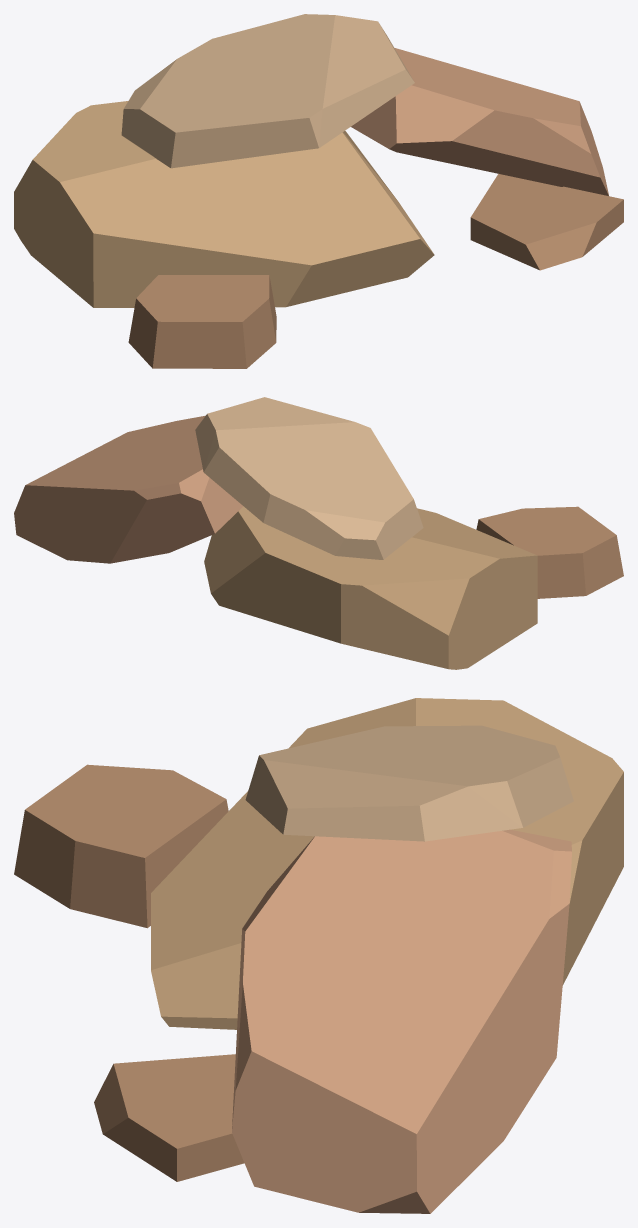
The model's file is Rocks_Flat_m_03.fbx.
The picture shows the model from 3 angles, top to bottom: view 1: azimuth 30°, elevation 25°; view 2: azimuth 150°, elevation 25°; view 3: azimuth 270°, elevation 25°; orthographic projection. The views are drawn at different scales.
Visible parts, largest first — view 1: Rocks_Flat_m_03; view 2: Rocks_Flat_m_03; view 3: Rocks_Flat_m_03.
Part boxes in pixels (x1,y1,x2,y2): Rocks_Flat_m_03: (14, 14, 623, 368); Rocks_Flat_m_03: (14, 397, 623, 669); Rocks_Flat_m_03: (14, 698, 623, 1213).
Bounding box in the file's own units: 230 × 71.76 × 151.
